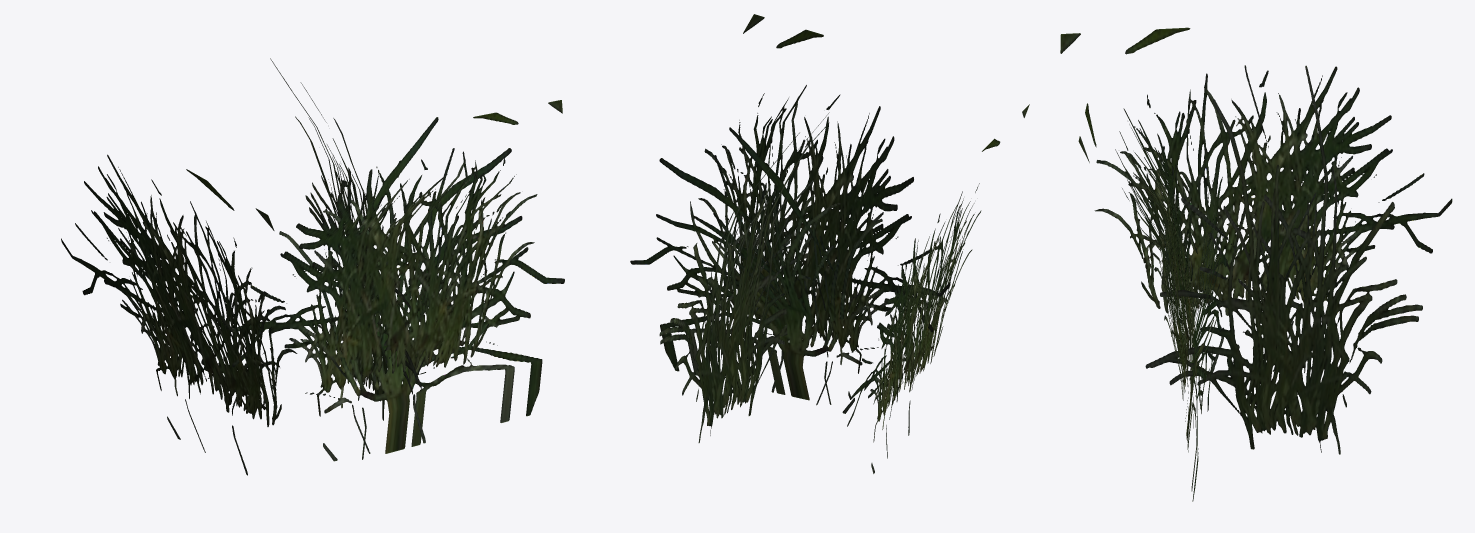
The model's file is forest_grass_001_c_LOD2.gltf.
3 renders of one model, left to right at view 1: azimuth 30°, elevation 25°; view 2: azimuth 150°, elevation 25°; view 3: azimuth 270°, elevation 25°, orthographic. The views are drawn at different scales.
Visible parts, largest first — view 1: forest_grass_001_c_LOD2; view 2: forest_grass_001_c_LOD2; view 3: forest_grass_001_c_LOD2.
Part boxes in pixels (x1,y1,x2,y2): forest_grass_001_c_LOD2: (61, 58, 564, 475); forest_grass_001_c_LOD2: (630, 14, 1029, 473); forest_grass_001_c_LOD2: (1060, 27, 1452, 501).
Bounding box in the file's own units: 0.8811 × 0.7079 × 0.7424.
1 material, 1 textured.
